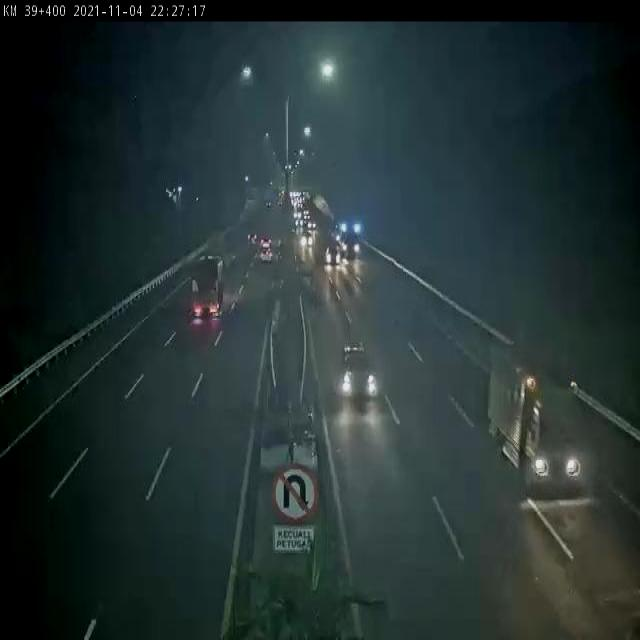Car: (477, 349, 608, 499), (326, 330, 392, 411), (324, 241, 343, 269), (258, 248, 276, 264), (259, 231, 273, 250), (300, 230, 314, 248), (246, 229, 259, 248)
Truck: (180, 249, 228, 325)
